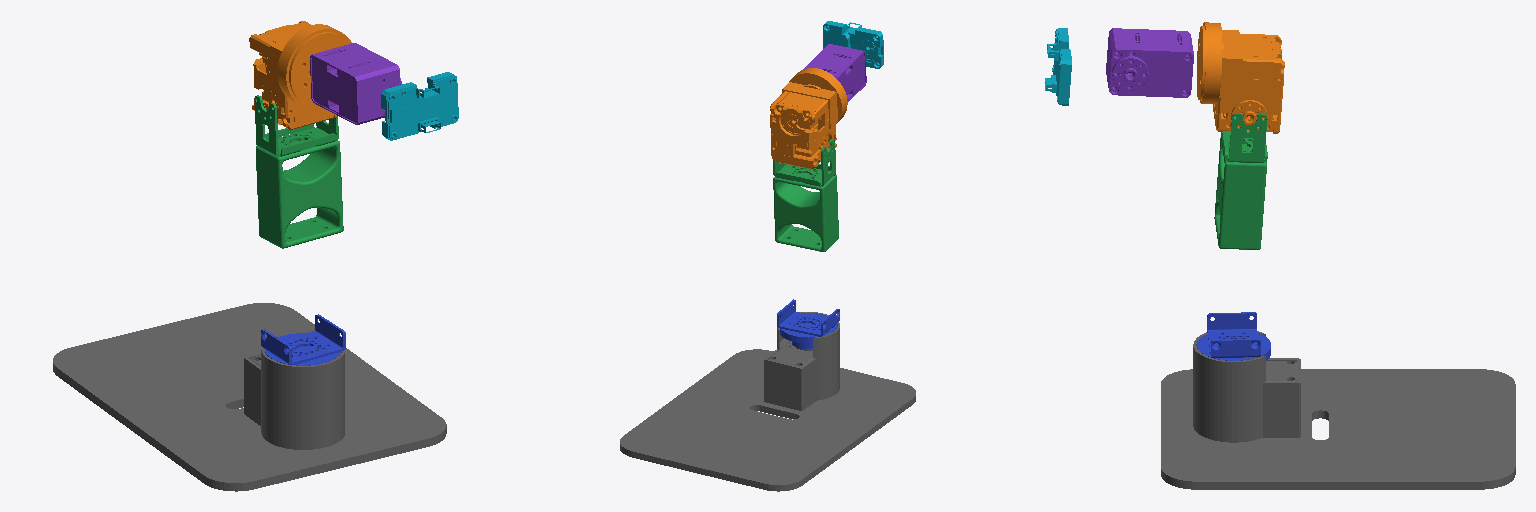
URDF robot description (robot_arm_fusion):
<?xml version="1.0"?>
<robot name="robot_arm_fusion">
  <material name="base_gray"><color rgba="0.45 0.45 0.45 1"/></material>
  <material name="yaw_blue"><color rgba="0.25 0.35 0.85 1"/></material>
  <material name="shoulder_green"><color rgba="0.2 0.65 0.35 1"/></material>
  <material name="upper_orange"><color rgba="0.95 0.55 0.15 1"/></material>
  <material name="forearm_purple"><color rgba="0.55 0.3 0.8 1"/></material>
  <material name="elbow_red"><color rgba="0.85 0.25 0.2 1"/></material>
  <material name="wrist_cyan"><color rgba="0.1 0.7 0.8 1"/></material>

  <link name="base_link">
    <inertial>
      <origin xyz="0 0 0" rpy="0 0 0"/>
      <mass value="0.1"/>
      <inertia ixx="0.0001" ixy="0" ixz="0" iyy="0.0001" iyz="0" izz="0.0001"/>
    </inertial>
    <visual>
      <origin xyz="-0.075 -0.0413 0" rpy="0 -0 0"/>
      <geometry><mesh filename="../cad/exports/fusion_meshes/arm_plate_v2_1.stl" scale="0.001 0.001 0.001"/></geometry>
      <material name="base_gray"/>
    </visual>
    <visual>
      <origin xyz="0.00015 -5e-05 0.022" rpy="-1.57772e-30 2.9525e-15 -3.14159"/>
      <geometry><mesh filename="../cad/exports/fusion_meshes/XM_H-430_idler_1_DUMMY_DC12_1.stl" scale="0.001 0.001 0.001"/></geometry>
      <material name="base_gray"/>
    </visual>
  </link>

  <link name="base_yaw_link">
    <inertial>
      <origin xyz="0 0 0" rpy="0 0 0"/>
      <mass value="0.1"/>
      <inertia ixx="0.0001" ixy="0" ixz="0" iyy="0.0001" iyz="0" izz="0.0001"/>
    </inertial>
    <visual>
      <origin xyz="3.15722e-30 -3.44974e-30 0.055" rpy="-3.14159 -1.58916e-17 -3.08048"/>
      <geometry><mesh filename="../cad/exports/fusion_meshes/arm_thrustA_1.stl" scale="0.001 0.001 0.001"/></geometry>
      <material name="yaw_blue"/>
    </visual>
    <visual>
      <origin xyz="2.45604e-16 1.19547e-16 0.0745" rpy="-3.14159 -2.05163e-15 -3.08048"/>
      <geometry><mesh filename="../cad/exports/fusion_meshes/fr12_s102_k_1.stl" scale="0.001 0.001 0.001"/></geometry>
      <material name="yaw_blue"/>
    </visual>
    <visual>
      <origin xyz="6.33757e-17 1.62178e-16 0.0955" rpy="1.5708 1.18611e-16 1.6319"/>
      <geometry><mesh filename="../cad/exports/fusion_meshes/XM_H-430_idler_2_DUMMY_DC12_1.stl" scale="0.001 0.001 0.001"/></geometry>
      <material name="yaw_blue"/>
    </visual>
  </link>

  <link name="shoulder_pitch_link">
    <inertial>
      <origin xyz="0 0 0" rpy="0 0 0"/>
      <mass value="0.1"/>
      <inertia ixx="0.0001" ixy="0" ixz="0" iyy="0.0001" iyz="0" izz="0.0001"/>
    </inertial>
    <visual>
      <origin xyz="-0.0131998 0.0237966 0.0161501" rpy="1.5019 2.11287e-15 0.061108"/>
      <geometry><mesh filename="../cad/exports/fusion_meshes/fr12_h101_k_1.stl" scale="0.001 0.001 0.001"/></geometry>
      <material name="shoulder_green"/>
    </visual>
    <visual>
      <origin xyz="-0.0347374 0.0401283 0.0971295" rpy="-1.85646e-14 1.5019 -1.50969"/>
      <geometry><mesh filename="../cad/exports/fusion_meshes/arm_part1_1.stl" scale="0.001 0.001 0.001"/></geometry>
      <material name="shoulder_green"/>
    </visual>
    <visual>
      <origin xyz="-0.0136622 0.031355 0.125889" rpy="-1.63969 2.96123e-16 0.061108"/>
      <geometry><mesh filename="../cad/exports/fusion_meshes/fr12_h101_k_2.stl" scale="0.001 0.001 0.001"/></geometry>
      <material name="shoulder_green"/>
    </visual>
  </link>

  <link name="upper_arm_link">
    <inertial>
      <origin xyz="0 0 0" rpy="0 0 0"/>
      <mass value="0.1"/>
      <inertia ixx="0.0001" ixy="0" ixz="0" iyy="0.0001" iyz="0" izz="0.0001"/>
    </inertial>
    <visual>
      <origin xyz="-3.26607e-05 0.000378369 0.00596068" rpy="1.5019 2.51529e-16 0.061108"/>
      <geometry><mesh filename="../cad/exports/fusion_meshes/2XC-430_1_DC14_A01_REF_1.stl" scale="0.001 0.001 0.001"/></geometry>
      <material name="upper_orange"/>
    </visual>
    <visual>
      <origin xyz="0.0155088 0.000501614 -0.00601085" rpy="-3.62933e-15 1.5019 -1.50969"/>
      <geometry><mesh filename="../cad/exports/fusion_meshes/2XC-430_1_DC11_A01_HORN_REF_ASM_1_DC11_A01_HORN_REF_1.stl" scale="0.001 0.001 0.001"/></geometry>
      <material name="upper_orange"/>
    </visual>
    <visual>
      <origin xyz="0.000862446 -0.0142514 0.0190006" rpy="1.5708 -1.5019 1.6319"/>
      <geometry><mesh filename="../cad/exports/fusion_meshes/2XC-430_1_DC11_A01_HORN_REF_ASM_2_DC11_A01_HORN_REF_1.stl" scale="0.001 0.001 0.001"/></geometry>
      <material name="upper_orange"/>
    </visual>
    <visual>
      <origin xyz="0.0011134 -0.0167154 0.0191614" rpy="1.5019 2.51323e-16 0.061108"/>
      <geometry><mesh filename="../cad/exports/fusion_meshes/arm_thrustC_1.stl" scale="0.001 0.001 0.001"/></geometry>
      <material name="upper_orange"/>
    </visual>
    <visual>
      <origin xyz="0.00165447 -0.0271963 0.0198956" rpy="-1.63969 -1.97853e-16 0.061108"/>
      <geometry><mesh filename="../cad/exports/fusion_meshes/arm_thrustB_1.stl" scale="0.001 0.001 0.001"/></geometry>
      <material name="upper_orange"/>
    </visual>
    <visual>
      <origin xyz="0.00284251 -0.0466137 0.021238" rpy="-1.63969 -1.83573e-16 0.061108"/>
      <geometry><mesh filename="../cad/exports/fusion_meshes/fr12_s102_k_2.stl" scale="0.001 0.001 0.001"/></geometry>
      <material name="upper_orange"/>
    </visual>
  </link>

  <link name="forearm_link">
    <inertial>
      <origin xyz="0 0 0" rpy="0 0 0"/>
      <mass value="0.1"/>
      <inertia ixx="0.0001" ixy="0" ixz="0" iyy="0.0001" iyz="0" izz="0.0001"/>
    </inertial>
    <visual>
      <origin xyz="-0.00777806 -0.000424807 -1.63223e-05" rpy="1.5708 -1.5019 1.6319"/>
      <geometry><mesh filename="../cad/exports/fusion_meshes/XC-430_idle_1_DC11_B01_CASE_M_DUMMY_1.stl" scale="0.001 0.001 0.001"/></geometry>
      <material name="forearm_purple"/>
    </visual>
    <visual>
      <origin xyz="-0.00777806 -0.000424807 -1.63223e-05" rpy="1.5708 -1.5019 1.6319"/>
      <geometry><mesh filename="../cad/exports/fusion_meshes/XC-430_idle_1_DC11_B01_CASE_F_DUMMY_1.stl" scale="0.001 0.001 0.001"/></geometry>
      <material name="forearm_purple"/>
    </visual>
    <visual>
      <origin xyz="-0.00777806 -0.000424807 -1.63223e-05" rpy="1.5708 -1.5019 1.6319"/>
      <geometry><mesh filename="../cad/exports/fusion_meshes/XC-430_idle_1_DC11_B01_CASE_B_DUMMY2_1.stl" scale="0.001 0.001 0.001"/></geometry>
      <material name="forearm_purple"/>
    </visual>
    <visual>
      <origin xyz="0.00769301 0.000521777 -1.63223e-05" rpy="-6.34185e-14 -0.0688963 -1.50969"/>
      <geometry><mesh filename="../cad/exports/fusion_meshes/XC-430_idle_1_M_DC11_A01_HORN_ASM_1_M_DC11_A01_HORN_1.stl" scale="0.001 0.001 0.001"/></geometry>
      <material name="forearm_purple"/>
    </visual>
    <visual>
      <origin xyz="-0.0264834 -0.0303827 -0.0100603" rpy="1.5019 6.32561e-14 0.061108"/>
      <geometry><mesh filename="../cad/exports/fusion_meshes/arm_hand_v2_1.stl" scale="0.001 0.001 0.001"/></geometry>
      <material name="forearm_purple"/>
    </visual>
    <visual>
      <origin xyz="-0.00777806 -0.000424807 -1.63223e-05" rpy="0.0688963 -6.3055e-14 -3.08048"/>
      <geometry><mesh filename="../cad/exports/fusion_meshes/fr12_h101_k_3.stl" scale="0.001 0.001 0.001"/></geometry>
      <material name="forearm_purple"/>
    </visual>
  </link>

  <link name="elbow_roll_link">
    <inertial>
      <origin xyz="0 0 0" rpy="0 0 0"/>
      <mass value="0.1"/>
      <inertia ixx="0.0001" ixy="0" ixz="0" iyy="0.0001" iyz="0" izz="0.0001"/>
    </inertial>
  </link>

  <link name="wrist_pitch_link">
    <inertial>
      <origin xyz="0 0 0" rpy="0 0 0"/>
      <mass value="0.1"/>
      <inertia ixx="0.0001" ixy="0" ixz="0" iyy="0.0001" iyz="0" izz="0.0001"/>
    </inertial>
    <visual>
      <origin xyz="-0.00050996 0.00769539 -0.000536548" rpy="9.26811e-13 -1.5019 1.6319"/>
      <geometry><mesh filename="../cad/exports/fusion_meshes/XC-430_idle_2_DC11_B01_CASE_M_DUMMY_1.stl" scale="0.001 0.001 0.001"/></geometry>
      <material name="wrist_cyan"/>
    </visual>
    <visual>
      <origin xyz="-0.00050996 0.00769539 -0.000536548" rpy="9.26846e-13 -1.5019 1.6319"/>
      <geometry><mesh filename="../cad/exports/fusion_meshes/XC-430_idle_2_DC11_B01_CASE_F_DUMMY_1.stl" scale="0.001 0.001 0.001"/></geometry>
      <material name="wrist_cyan"/>
    </visual>
    <visual>
      <origin xyz="-0.00050996 0.00769539 -0.000536548" rpy="9.26805e-13 -1.5019 1.6319"/>
      <geometry><mesh filename="../cad/exports/fusion_meshes/XC-430_idle_2_DC11_B01_CASE_B_DUMMY2_1.stl" scale="0.001 0.001 0.001"/></geometry>
      <material name="wrist_cyan"/>
    </visual>
    <visual>
      <origin xyz="0.000434379 -0.00773898 0.000530501" rpy="0.0688963 -6.54787e-14 -3.08048"/>
      <geometry><mesh filename="../cad/exports/fusion_meshes/XC-430_idle_2_M_DC11_A01_HORN_ASM_1_M_DC11_A01_HORN_1.stl" scale="0.001 0.001 0.001"/></geometry>
      <material name="wrist_cyan"/>
    </visual>
  </link>

  <joint name="base_yaw_joint" type="revolute">
    <parent link="base_link"/>
    <child link="base_yaw_link"/>
    <origin xyz="0 0 0" rpy="0 0 0"/>
    <axis xyz="0 0 1"/>
    <limit lower="-3.14159" upper="3.14159" effort="2.0" velocity="1.0"/>
  </joint>

  <joint name="shoulder_pitch_joint" type="revolute">
    <parent link="base_yaw_link"/>
    <child link="shoulder_pitch_link"/>
    <origin xyz="0.0132 -0.0238 0.0793" rpy="0 0 0"/>
    <axis xyz="0 1 0"/>
    <limit lower="-1.5708" upper="1.5708" effort="2.0" velocity="1.0"/>
  </joint>

  <joint name="upper_arm_roll_joint" type="revolute">
    <parent link="shoulder_pitch_link"/>
    <child link="upper_arm_link"/>
    <origin xyz="-0.0137 0.0318 0.1319" rpy="0 0 0"/>
    <axis xyz="0 0 -1"/>
    <limit lower="-1.5708" upper="1.5708" effort="2.0" velocity="1.0"/>
  </joint>

  <joint name="elbow_pitch_joint" type="revolute">
    <parent link="upper_arm_link"/>
    <child link="forearm_link"/>
    <origin xyz="0.0119 -0.0671 0.0227" rpy="0 0 0"/>
    <axis xyz="0 1 0"/>
    <limit lower="-1.5708" upper="1.5708" effort="2.0" velocity="1.0"/>
  </joint>

  <joint name="elbow_roll_joint" type="revolute">
    <parent link="forearm_link"/>
    <child link="elbow_roll_link"/>
    <origin xyz="-0.0078 -0.0004 0" rpy="0 0 0"/>
    <axis xyz="-1 0 0"/>
    <limit lower="-1.5708" upper="1.5708" effort="2.0" velocity="1.0"/>
  </joint>

  <joint name="wrist_pitch_joint" type="revolute">
    <parent link="elbow_roll_link"/>
    <child link="wrist_pitch_link"/>
    <origin xyz="0.0037 -0.0595 0.0041" rpy="0 0 0"/>
    <axis xyz="0 1 0"/>
    <limit lower="-1.5708" upper="1.5708" effort="2.0" velocity="1.0"/>
  </joint>

</robot>

--- What the picture shows (computed from the rendered views, not written in the file) ---
The picture shows the robot from 3 angles, left to right: view 1: azimuth 30°, elevation 25°; view 2: azimuth 150°, elevation 25°; view 3: azimuth 270°, elevation 25°; orthographic projection.
Model robot_arm_fusion with 7 links and 6 joints (6 revolute), rooted at base_link, posed all joints at 0.
Links seen in each view (by area): view 1: base_link, shoulder_pitch_link, upper_arm_link, forearm_link, wrist_pitch_link, base_yaw_link; view 2: base_link, upper_arm_link, shoulder_pitch_link, forearm_link, base_yaw_link, wrist_pitch_link; view 3: base_link, upper_arm_link, shoulder_pitch_link, forearm_link, base_yaw_link, wrist_pitch_link.
Link boxes in pixels (box(x1,y1,x2,y2)): base_link: box(53, 303, 446, 491); shoulder_pitch_link: box(254, 95, 343, 248); upper_arm_link: box(249, 21, 351, 129); forearm_link: box(310, 43, 401, 124); wrist_pitch_link: box(381, 72, 458, 140); base_yaw_link: box(261, 314, 345, 365); base_link: box(620, 312, 915, 491); upper_arm_link: box(770, 68, 847, 169); shoulder_pitch_link: box(773, 139, 838, 251); forearm_link: box(803, 44, 866, 101); base_yaw_link: box(777, 299, 839, 348); wrist_pitch_link: box(823, 21, 883, 68); base_link: box(1161, 331, 1515, 489); upper_arm_link: box(1197, 22, 1284, 133); shoulder_pitch_link: box(1214, 113, 1267, 249); forearm_link: box(1106, 28, 1193, 97); base_yaw_link: box(1197, 312, 1270, 360); wrist_pitch_link: box(1045, 28, 1071, 105).
Size in the robot's own frame: 0.15 by 0.2656 by 0.2539 metres.
Meshes: 24 distinct files referenced, 14 mesh visuals loaded (14 binary STL); not drawn: 10 (reference not matched to a file when rendering).
